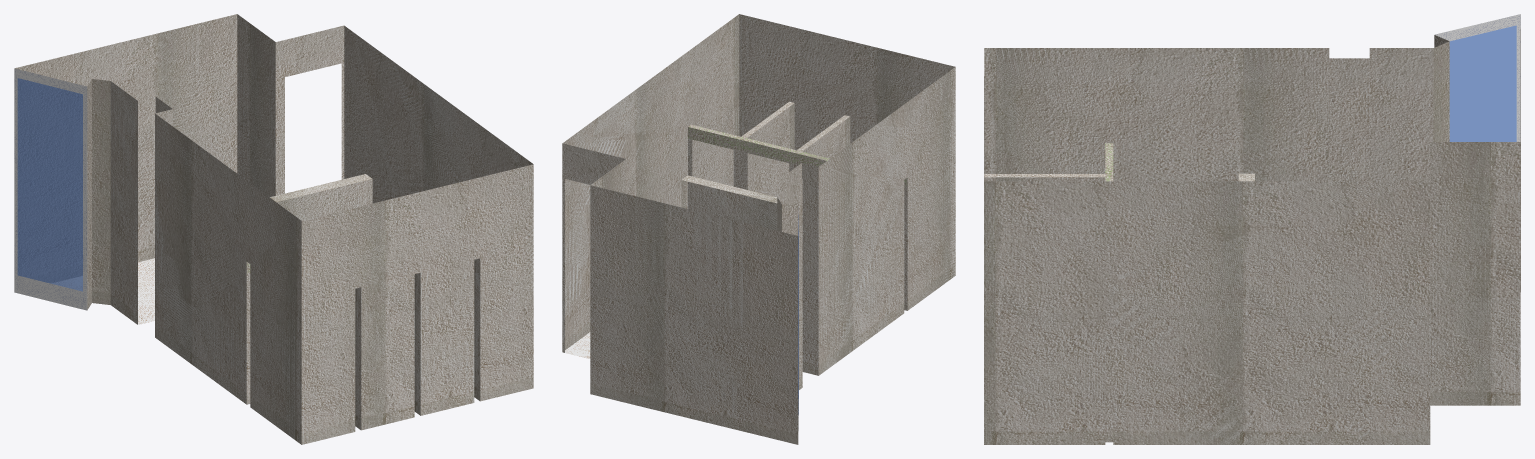
The model's file is COM027.obj.
3 views of the same model, side by side, from view 1: azimuth 30°, elevation 25°; view 2: azimuth 150°, elevation 25°; view 3: azimuth 270°, elevation 25° (orthographic). The views are drawn at different scales.
Parts seen in each view (by area): view 1: Mesh1 COM027 Model; view 2: Mesh1 COM027 Model; view 3: Mesh1 COM027 Model.
Boxes of the visible parts, x1=… form: Mesh1 COM027 Model: x1=14, y1=14, x2=533, y2=444; Mesh1 COM027 Model: x1=562, y1=14, x2=955, y2=444; Mesh1 COM027 Model: x1=984, y1=14, x2=1520, y2=444.
Bounding box in the file's own units: 4.9 × 3.6 × 6.64.
Materials: 7 (3 with a texture image).
